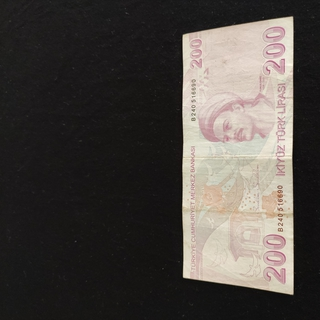200TLBack: (181, 15, 295, 295)
